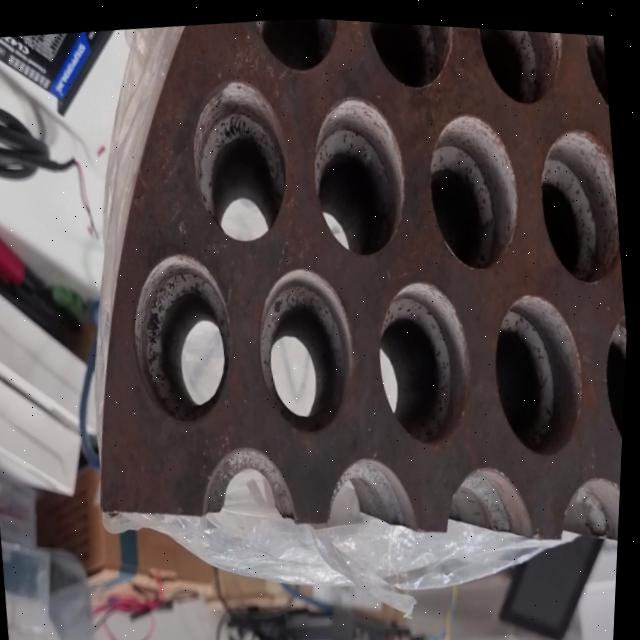Hole: (123, 243, 247, 431), (249, 257, 368, 438), (370, 267, 485, 446), (183, 70, 300, 245), (304, 85, 419, 260), (487, 279, 598, 455), (419, 100, 531, 271), (532, 116, 629, 282), (472, 22, 570, 105), (363, 17, 461, 93)
